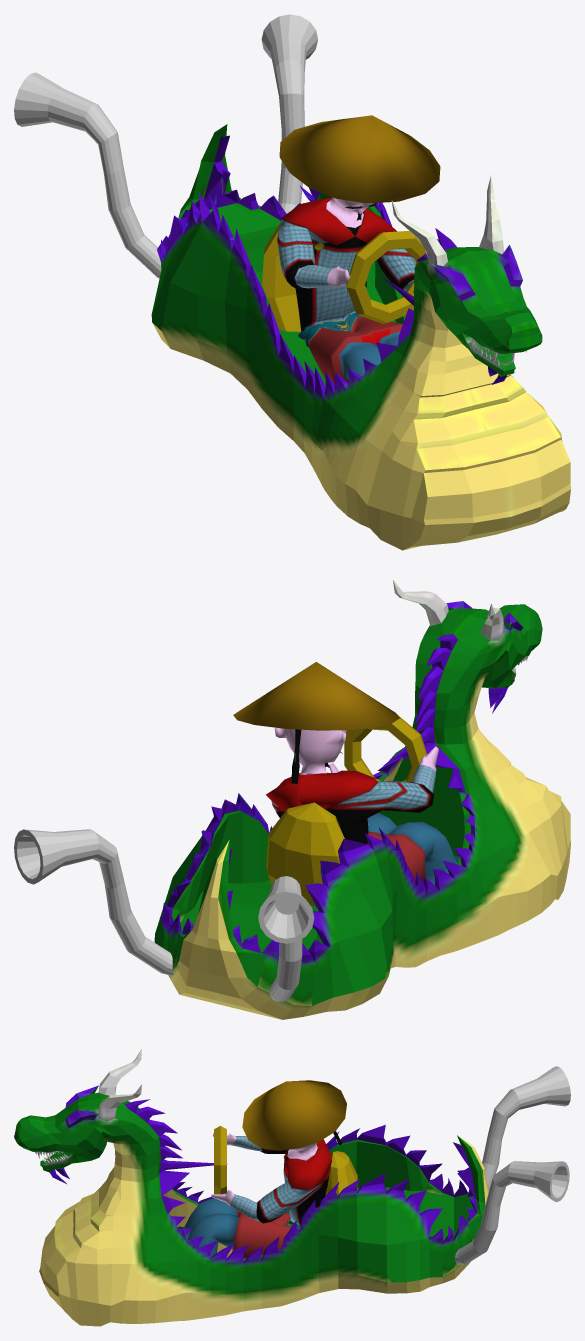
The model's file is ChinoGiroIzq_000184.obj.
3 renders of one model, top to bottom at view 1: azimuth 30°, elevation 25°; view 2: azimuth 150°, elevation 25°; view 3: azimuth 270°, elevation 25°, orthographic. The views are drawn at different scales.
Parts seen in each view (by area): view 1: ChasisChino_ChasisChinoH, Chino_ChinoH, Tubos_TubosH, volanteChino_VolanteChinoH, AsientoChinoMalla_AsientoChinoMH; view 2: ChasisChino_ChasisChinoH, Chino_ChinoH, Tubos_TubosH, AsientoChinoMalla_AsientoChinoMH, volanteChino_VolanteChinoH; view 3: ChasisChino_ChasisChinoH, Chino_ChinoH, Tubos_TubosH, AsientoChinoMalla_AsientoChinoMH, volanteChino_VolanteChinoH.
Part boxes in pixels (x1=…): ChasisChino_ChasisChinoH: x1=151, y1=124, x2=570, y2=550; Chino_ChinoH: x1=277, y1=115, x2=440, y2=383; Tubos_TubosH: x1=14, y1=14, x2=317, y2=278; volanteChino_VolanteChinoH: x1=346, y1=231, x2=425, y2=323; AsientoChinoMalla_AsientoChinoMH: x1=262, y1=221, x2=300, y2=331; ChasisChino_ChasisChinoH: x1=154, y1=580, x2=570, y2=1019; Chino_ChinoH: x1=233, y1=662, x2=459, y2=884; Tubos_TubosH: x1=14, y1=829, x2=314, y2=1001; AsientoChinoMalla_AsientoChinoMH: x1=266, y1=802, x2=344, y2=906; volanteChino_VolanteChinoH: x1=344, y1=715, x2=427, y2=781; ChasisChino_ChasisChinoH: x1=14, y1=1049, x2=489, y2=1326; Chino_ChinoH: x1=177, y1=1080, x2=346, y2=1258; Tubos_TubosH: x1=455, y1=1066, x2=570, y2=1264; AsientoChinoMalla_AsientoChinoMH: x1=325, y1=1151, x2=357, y2=1195; volanteChino_VolanteChinoH: x1=214, y1=1126, x2=226, y2=1194.
Size of the model in its own units: 6.15 by 6.07 by 13.3.
